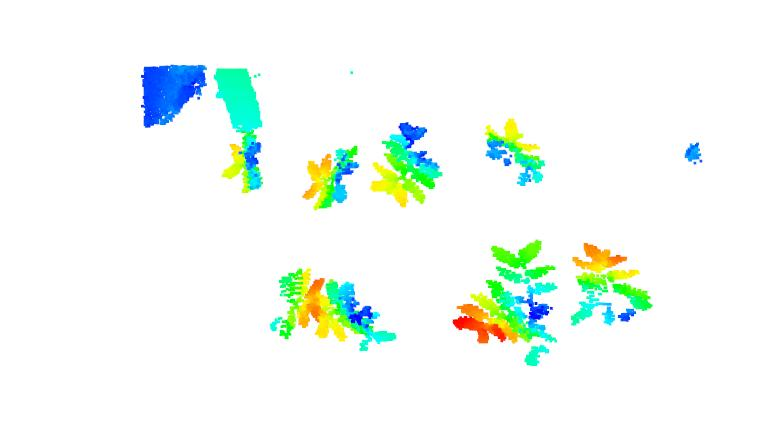chickpea: (448, 238, 558, 367), (566, 240, 654, 329), (366, 120, 441, 209), (324, 274, 394, 351), (479, 112, 546, 188), (267, 266, 332, 343), (301, 141, 359, 210), (220, 125, 268, 197)
